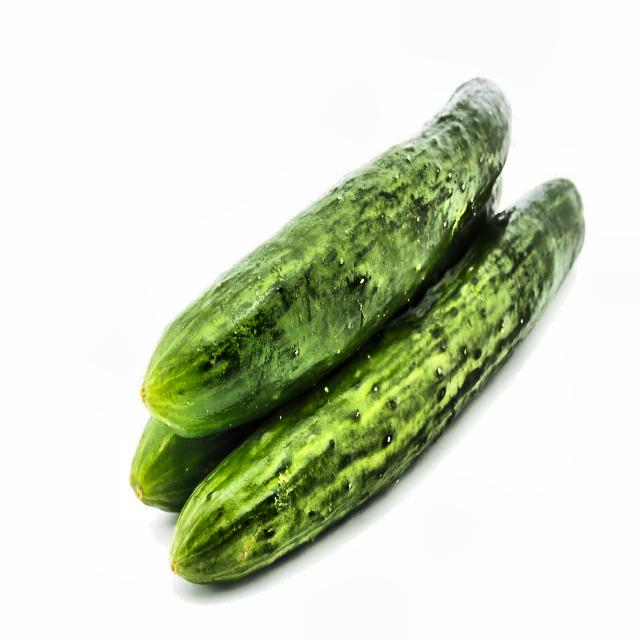cucumber: (80, 66, 597, 604)
